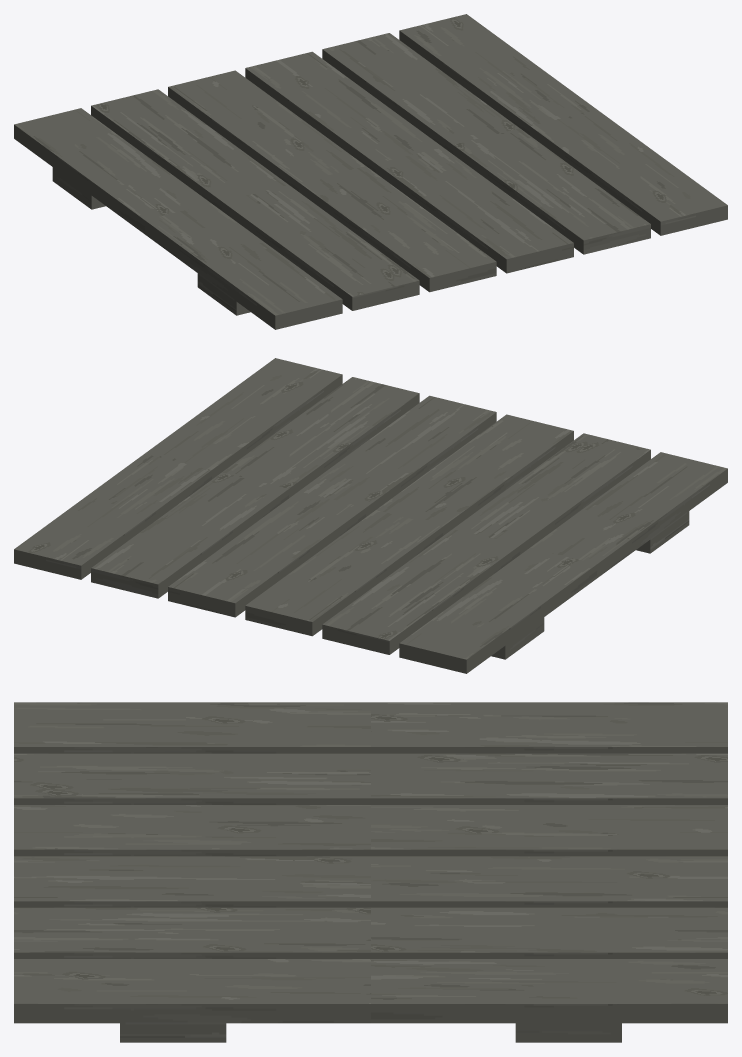
The model's file is planks.gltf.
3 views of the same model, one above another, from view 1: azimuth 30°, elevation 25°; view 2: azimuth 150°, elevation 25°; view 3: azimuth 270°, elevation 25° (orthographic). The views are drawn at different scales.
Visible parts, largest first — view 1: planks; view 2: planks; view 3: planks.
Boxes of the visible parts, x1=… form: planks: x1=14, y1=14, x2=727, y2=329; planks: x1=14, y1=358, x2=727, y2=673; planks: x1=14, y1=702, x2=727, y2=1042.
Bounding box in the file's own units: 1 × 0.06 × 1.
1 material, 1 textured.
